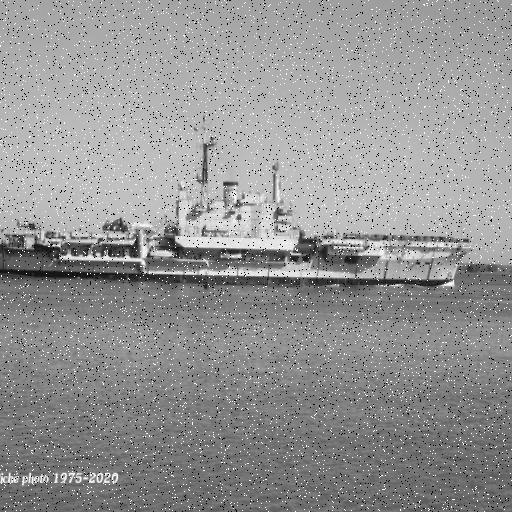Portanaves: (1, 111, 489, 300)
